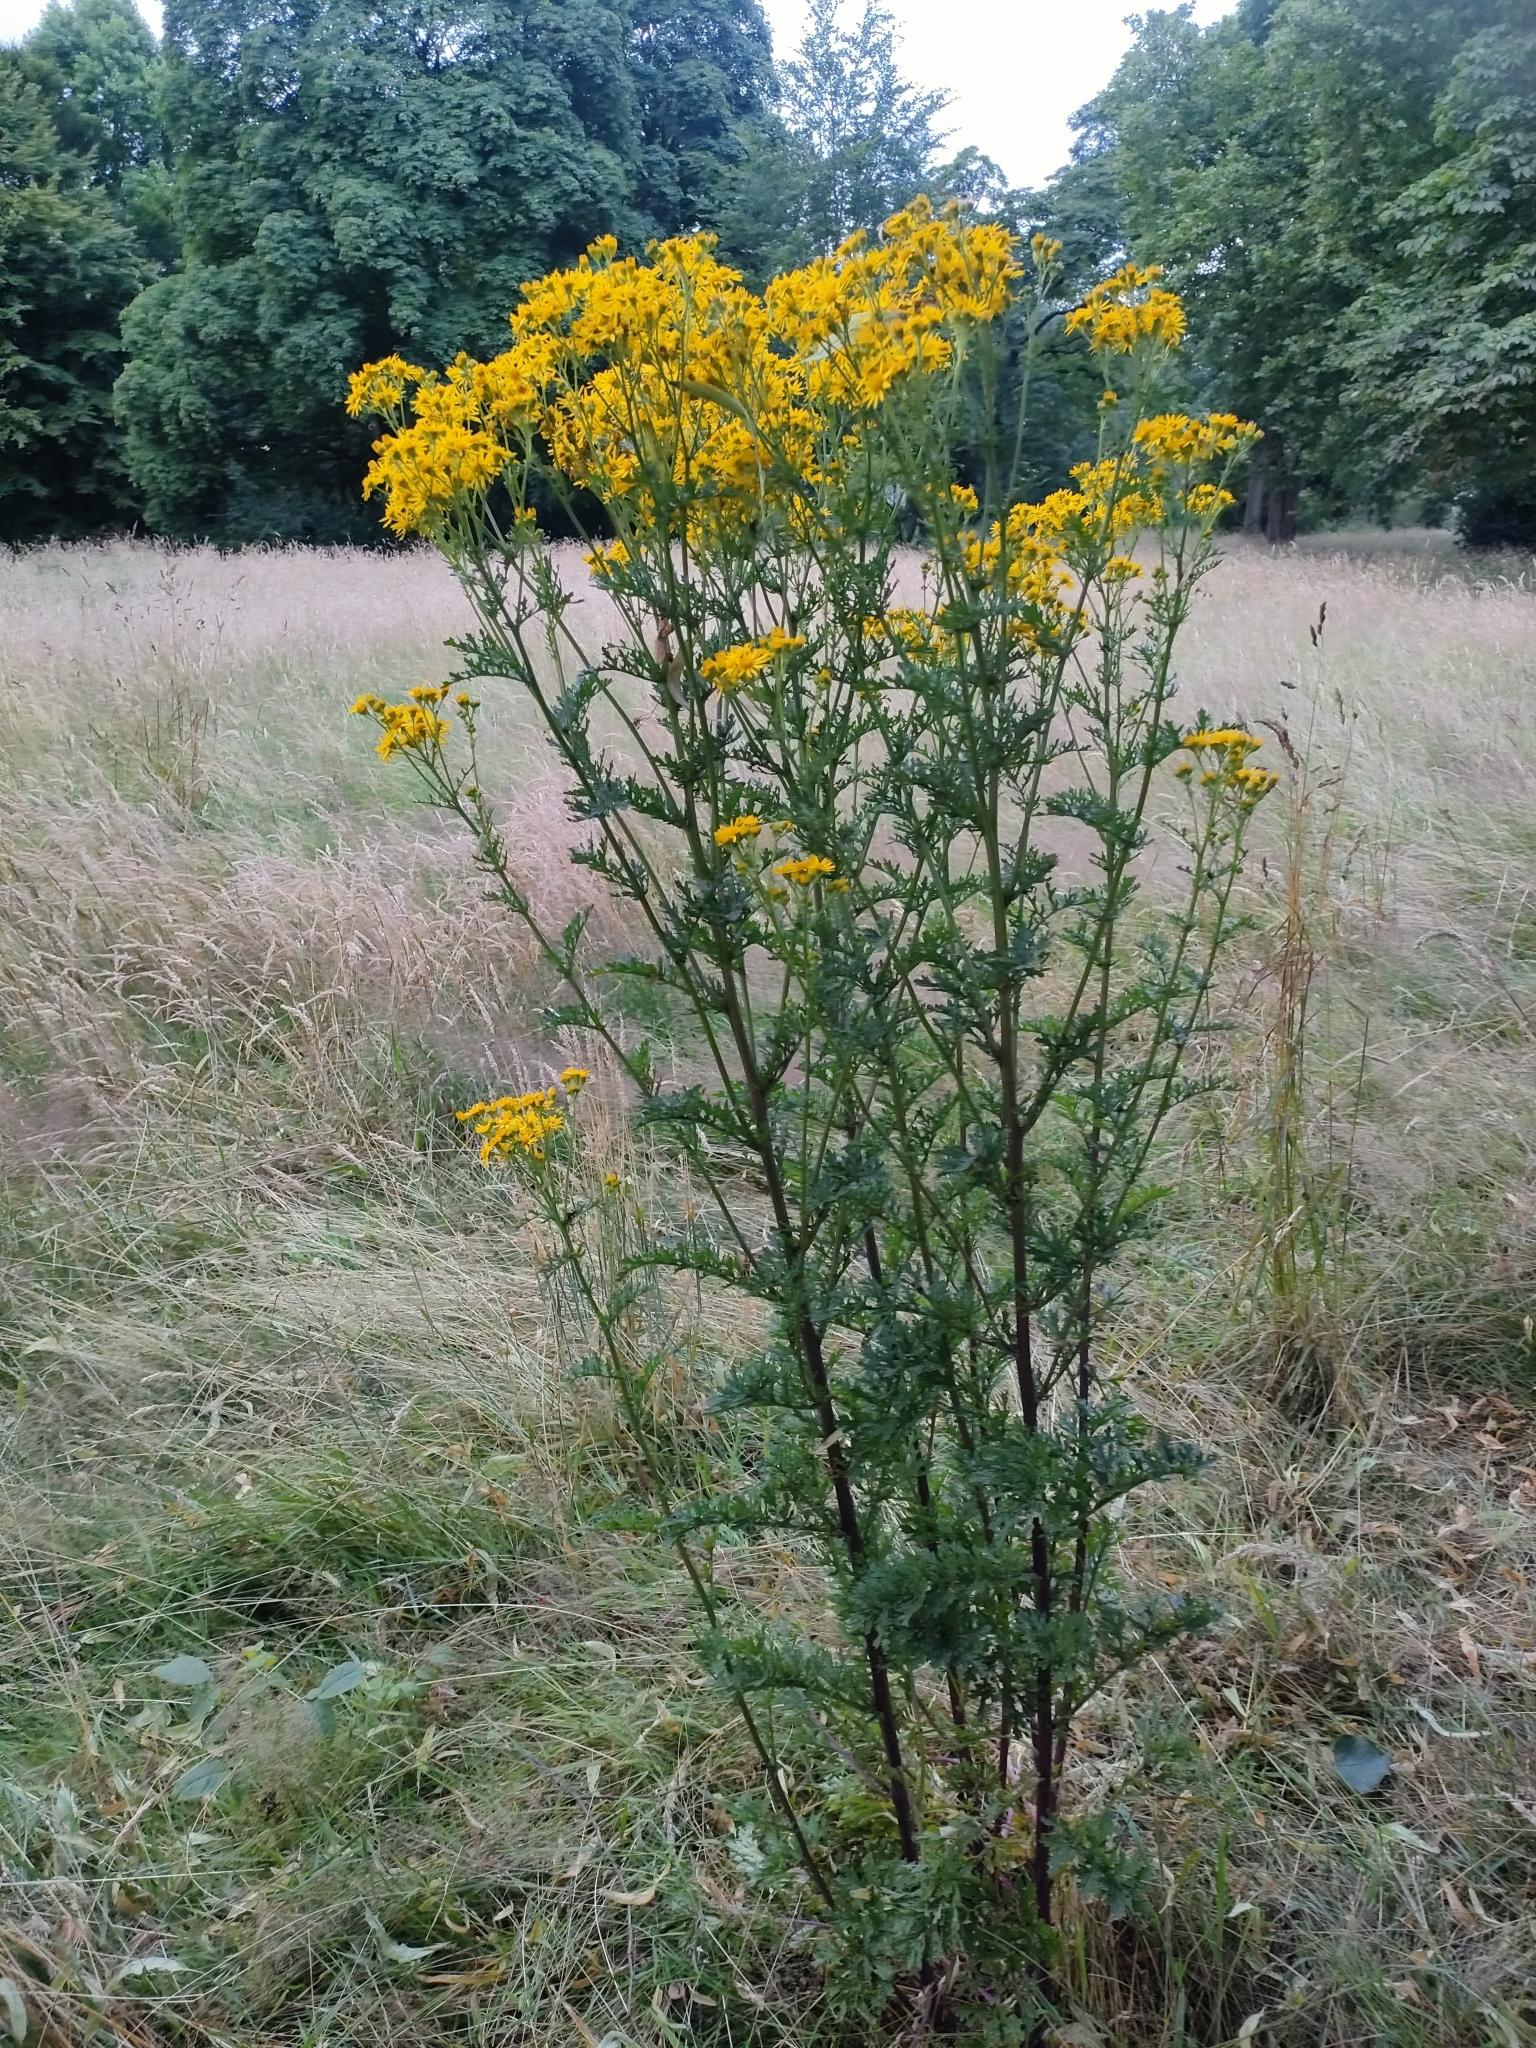Jacobaea vulgaris: (444, 134, 1236, 2048), (300, 306, 866, 1990), (920, 263, 1383, 2048), (760, 684, 1307, 2048), (419, 1016, 876, 1971)
